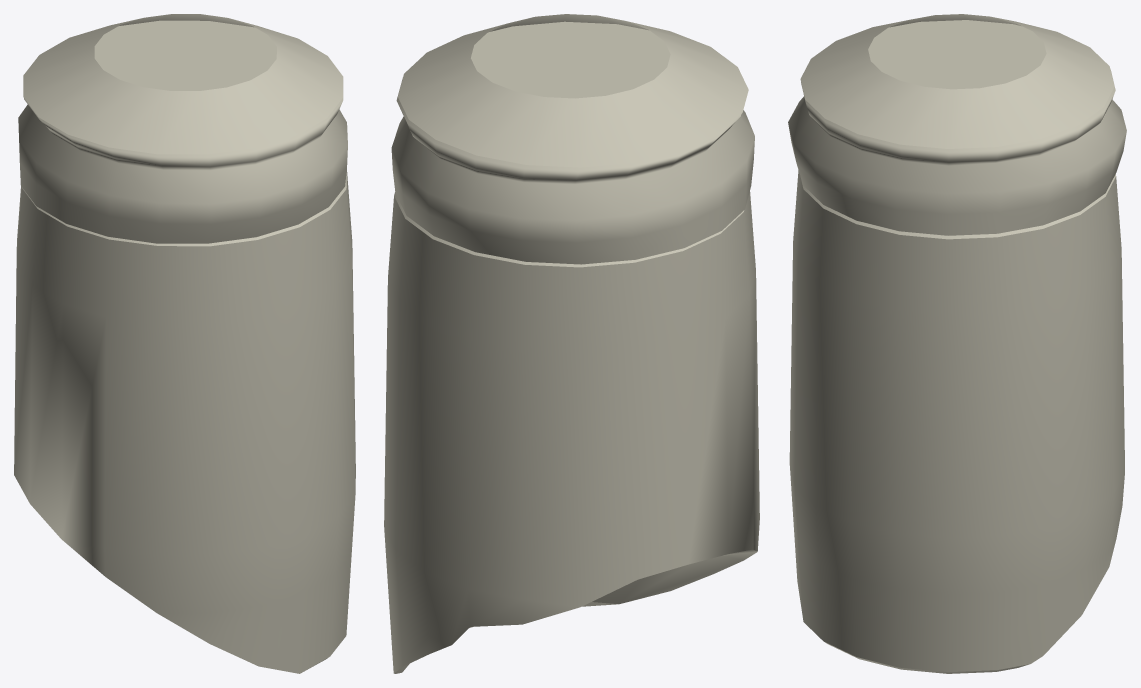
Rendered from Columna_Top_FBX.fbx.
3 views of the same model, side by side, from view 1: azimuth 30°, elevation 25°; view 2: azimuth 150°, elevation 25°; view 3: azimuth 270°, elevation 25° (orthographic). The views are drawn at different scales.
Visible parts, largest first — view 1: Columna_Top; view 2: Columna_Top; view 3: Columna_Top.
Boxes of the visible parts, left/top/right/bottom form: Columna_Top: left=14, top=14, right=355, bottom=673; Columna_Top: left=384, top=14, right=759, bottom=673; Columna_Top: left=788, top=14, right=1126, bottom=673.
Size of the model in its own units: 0.8589 by 1.58 by 0.8692.
